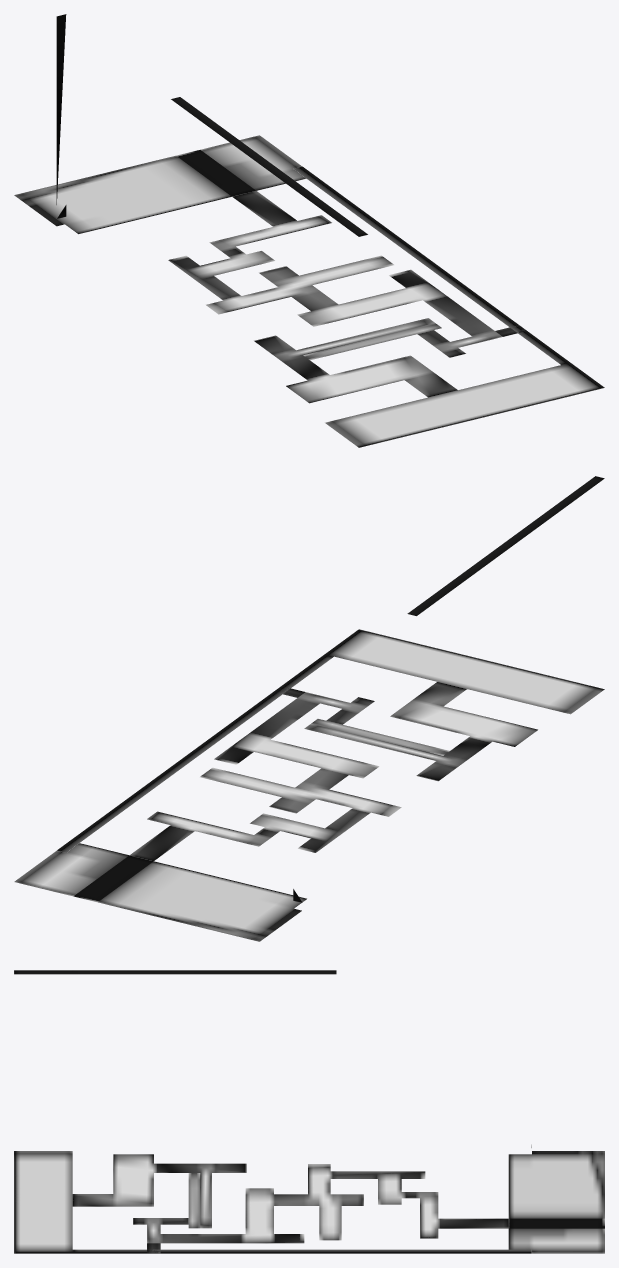
The model's file is maze2_hidden.obj.
The picture shows the model from 3 angles, top to bottom: view 1: azimuth 30°, elevation 25°; view 2: azimuth 150°, elevation 25°; view 3: azimuth 270°, elevation 25°; orthographic projection. The views are drawn at different scales.
Parts seen in each view (by area): view 1: Cube; view 2: Cube; view 3: Cube.
Boxes of the visible parts, x1=… form: Cube: x1=14, y1=14, x2=604, y2=447; Cube: x1=14, y1=476, x2=604, y2=941; Cube: x1=14, y1=970, x2=604, y2=1253.
Bounding box in the file's own units: 8.29 × 6.79 × 20.14.
